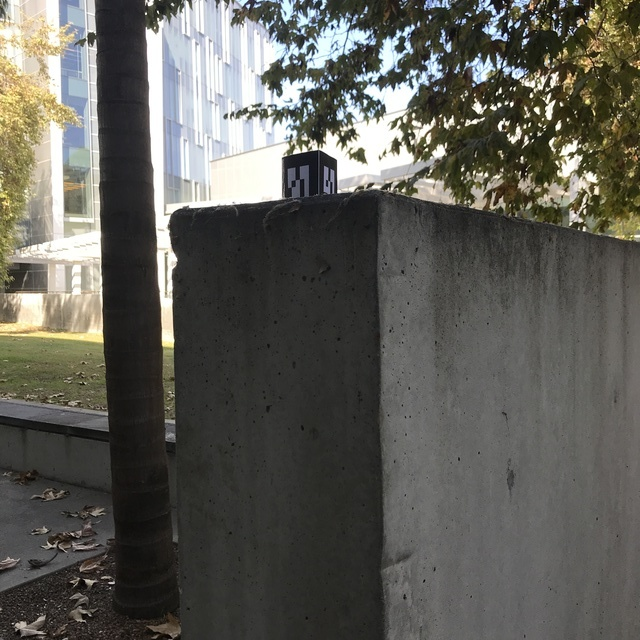ARTag: (281, 150, 338, 204)
